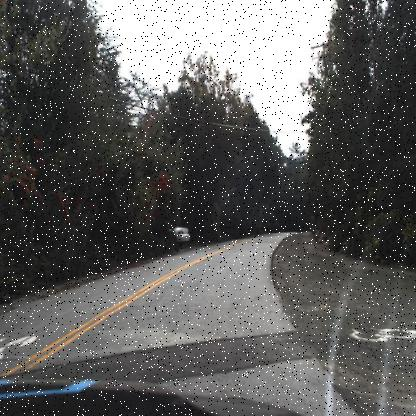car: (170, 226, 189, 244)
